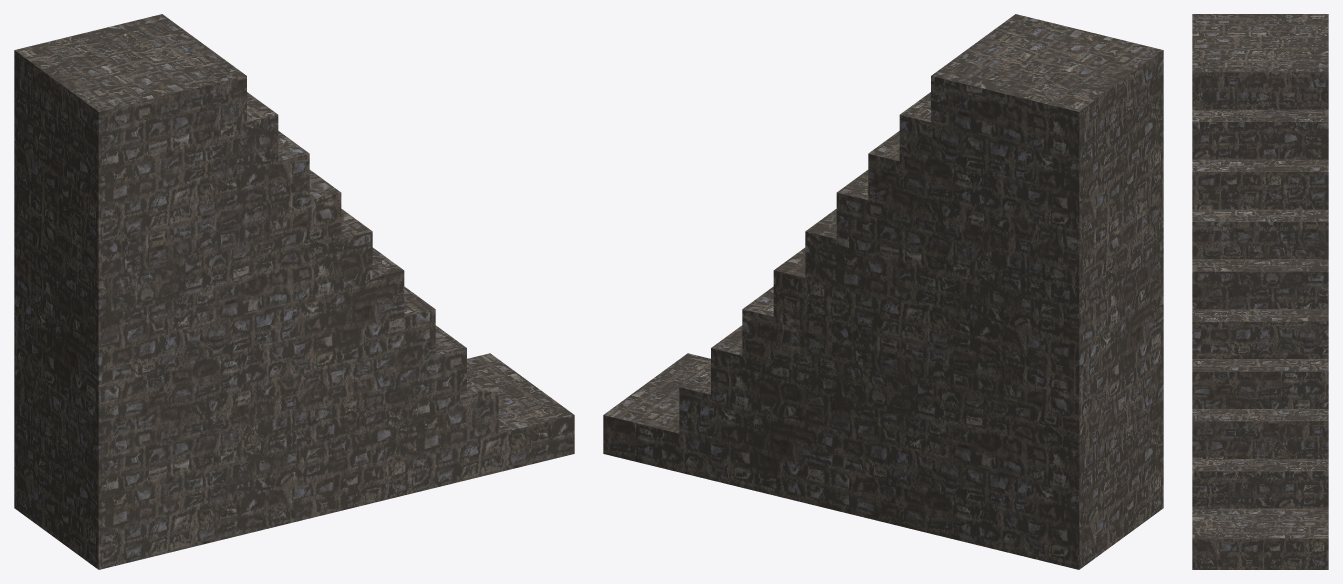
The model's file is Stairs.fbx.
3 renders of one model, left to right at view 1: azimuth 30°, elevation 25°; view 2: azimuth 150°, elevation 25°; view 3: azimuth 270°, elevation 25°, orthographic. The views are drawn at different scales.
Visible parts, largest first — view 1: Castle Stairs; view 2: Castle Stairs; view 3: Castle Stairs.
Boxes of the visible parts, box(x1,y1,x2,y2) form: Castle Stairs: box(14, 14, 574, 569); Castle Stairs: box(603, 14, 1163, 569); Castle Stairs: box(1192, 14, 1328, 569).
Size of the model in its own units: 427 by 393 by 131.
